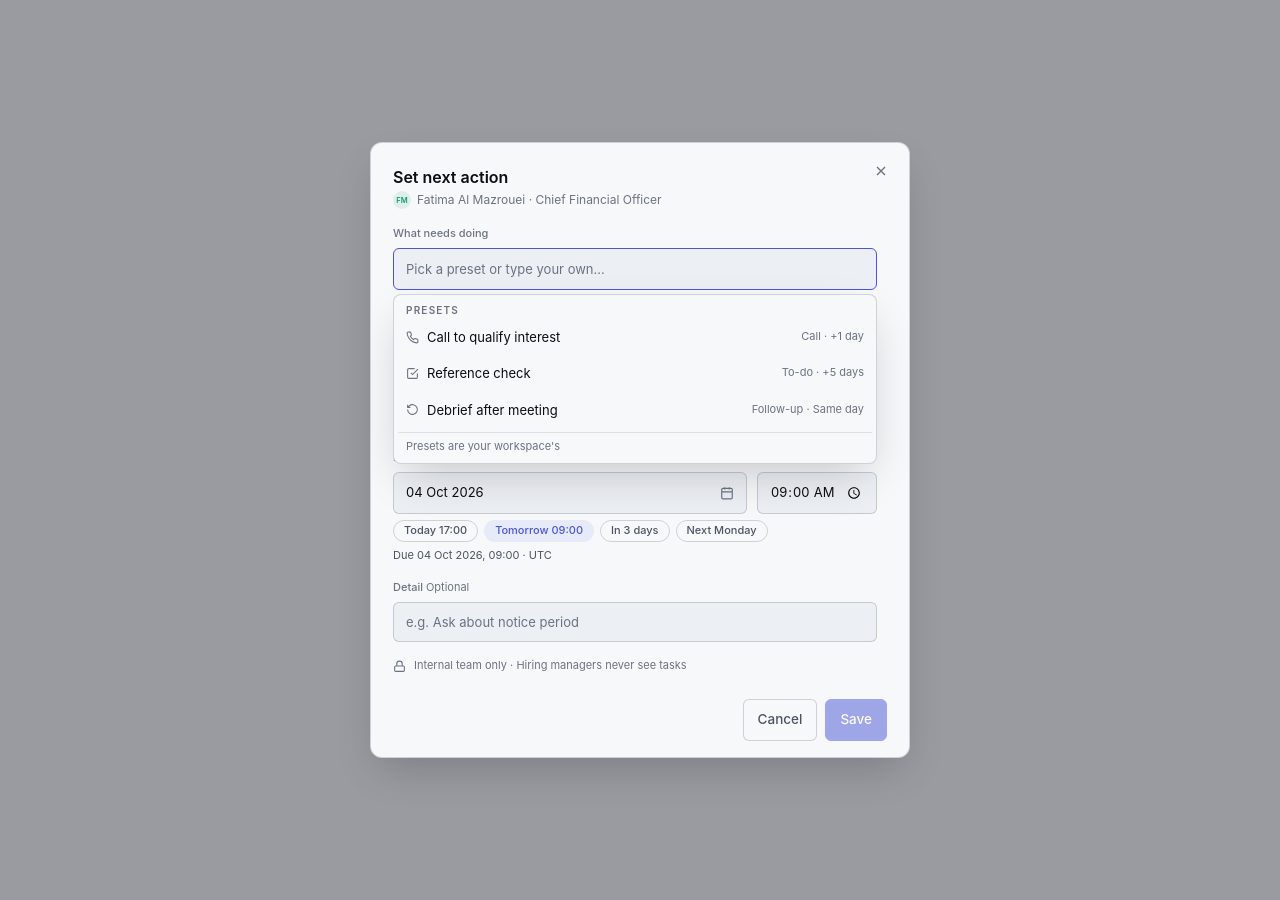
Test: NextActionModal › takes a preset's title, kind and due, and saves it as that preset
Expected: the option "Call to qualify interest Call · +1 day" is shown, x1=406 y1=329 x2=864 y2=345
Type "ref" into the dropdown named "What needs doing". click: (635, 269)
box: x1=393 y1=248 x2=877 y2=290
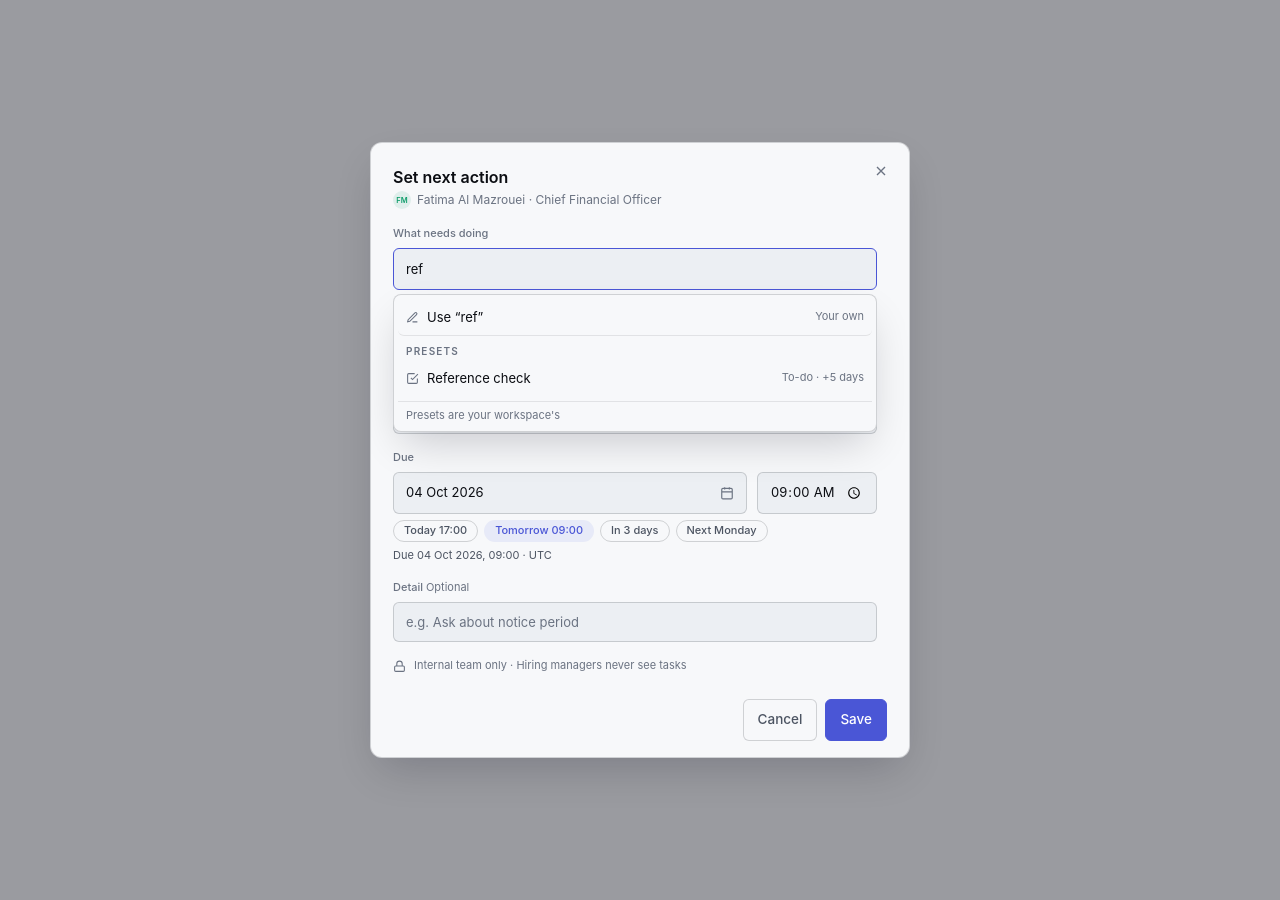
Expected: the options read "Use “ref”Your own", "Reference checkTo-do · +5 days", in this order
Click the option "Reference check To-do · +5 days". click: (479, 378)
box: x1=406 y1=370 x2=864 y2=386
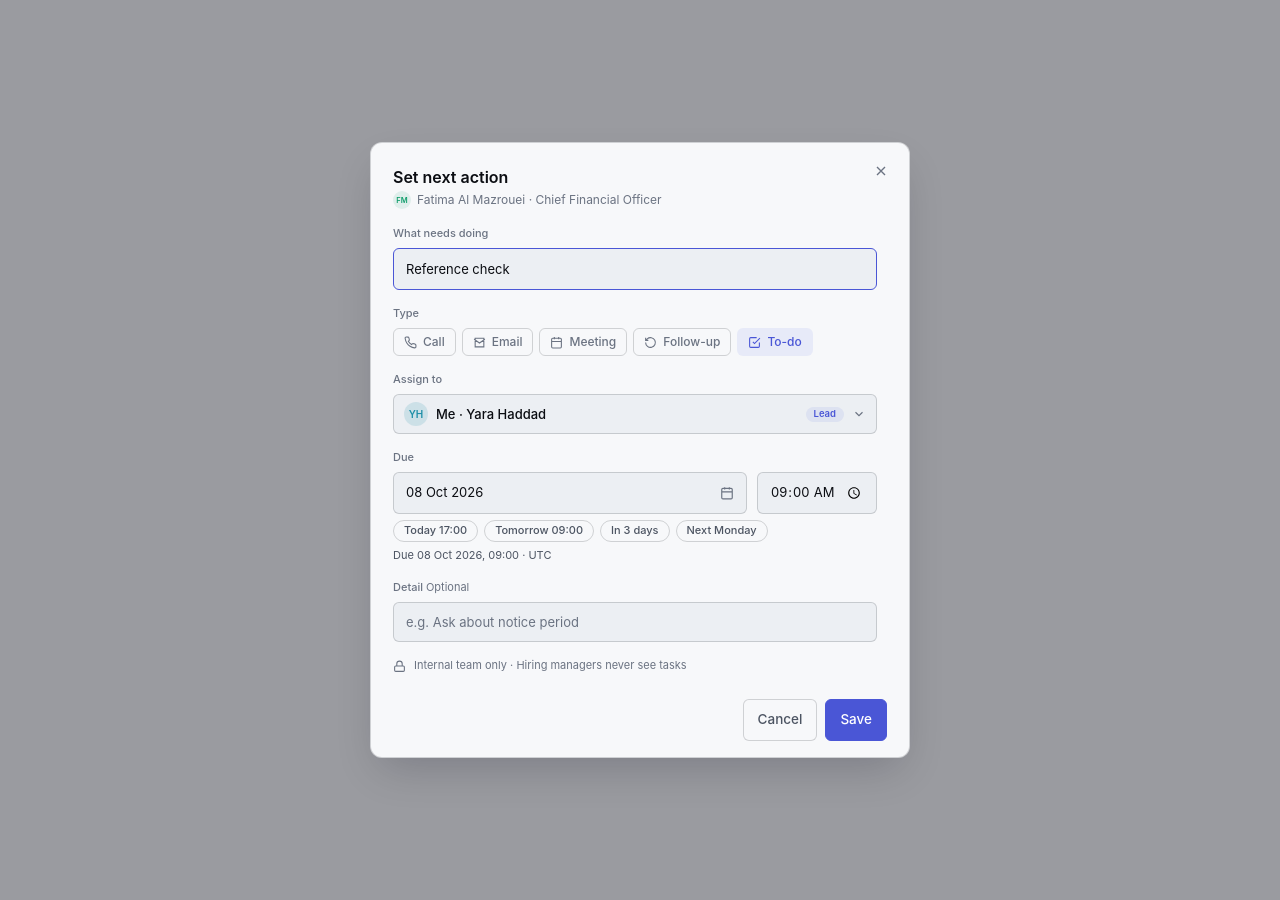
Expected: the dropdown named "What needs doing" holds "Reference check", x1=393 y1=248 x2=877 y2=290
Expected: the radio button labelled "To-do" is checked, x1=737 y1=328 x2=813 y2=356
Expected: the text "Due 08 Oct 2026, 09:00 · UTC" is shown, x1=393 y1=548 x2=551 y2=562
Click the button "Save". click: (856, 720)
box: x1=825 y1=699 x2=887 y2=741
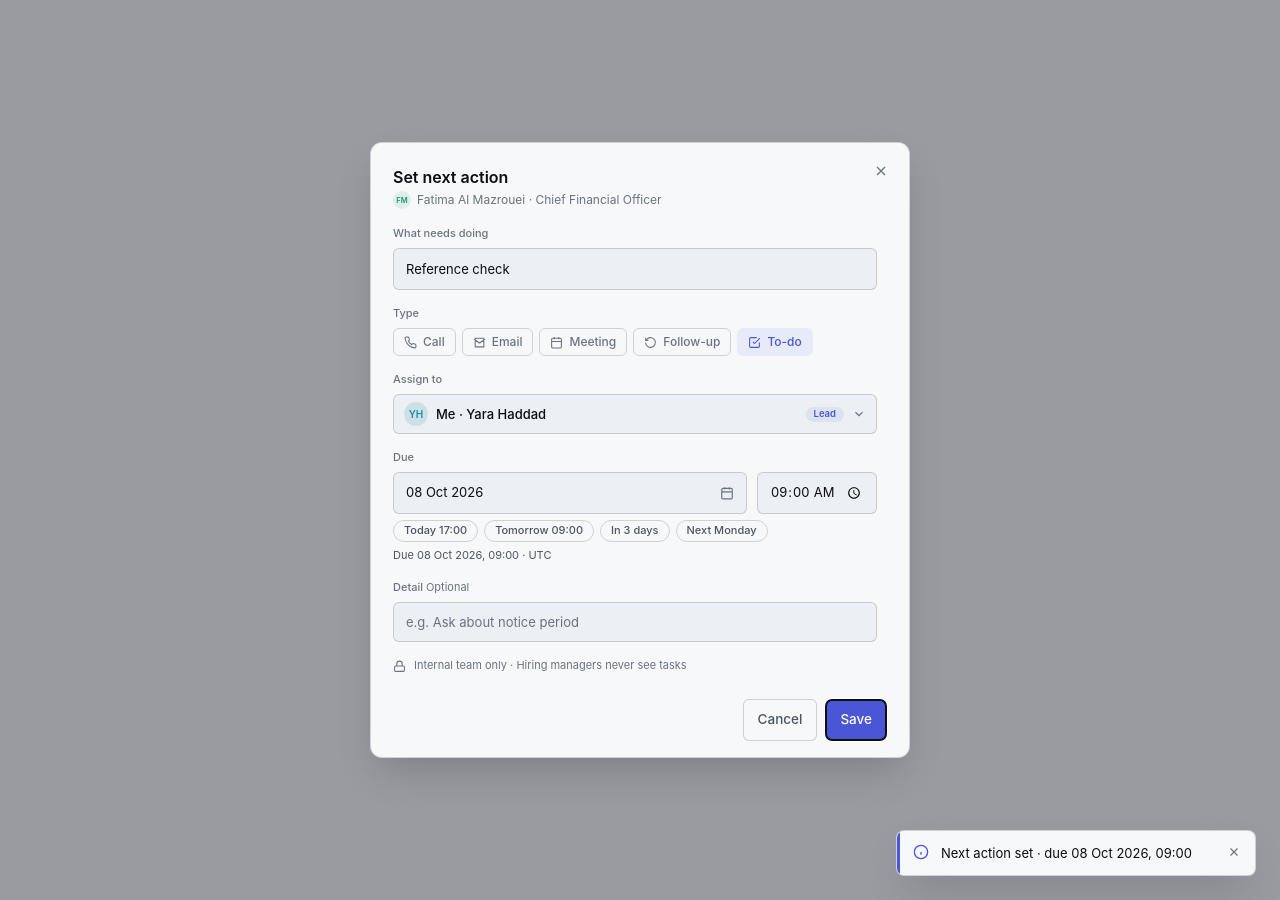
Expected: the text "Next action set · due 08 Oct 2026, 09:00" is shown, x1=941 y1=843 x2=1211 y2=863
